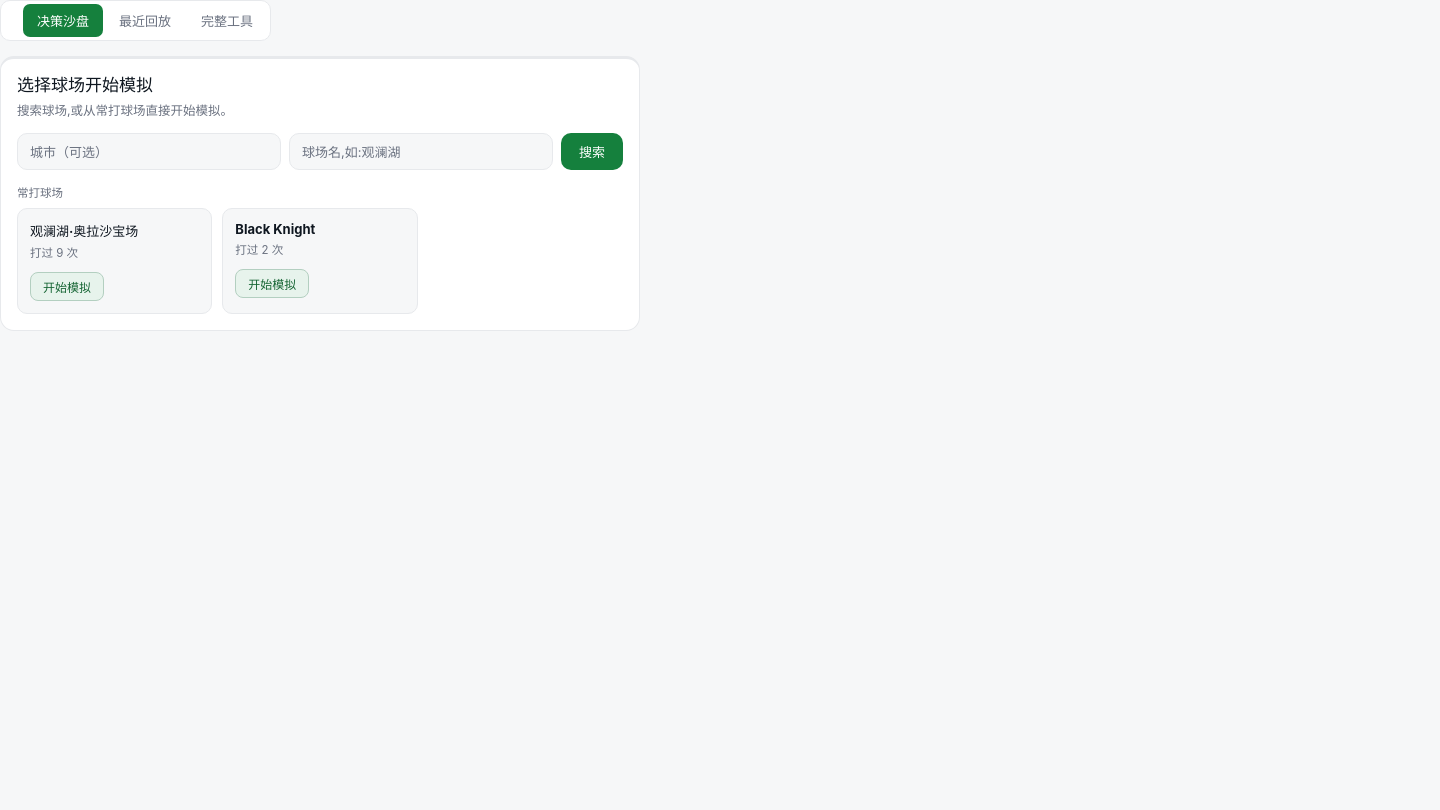
Test: LivePage tabs › 完整工具 renders the verbatim CaddiePage; 决策沙盘 returns to the entry
This screenshot has width=1440, height=810.
Click the button "完整工具" at (227, 20), box x1=187 y1=4 x2=267 y2=37
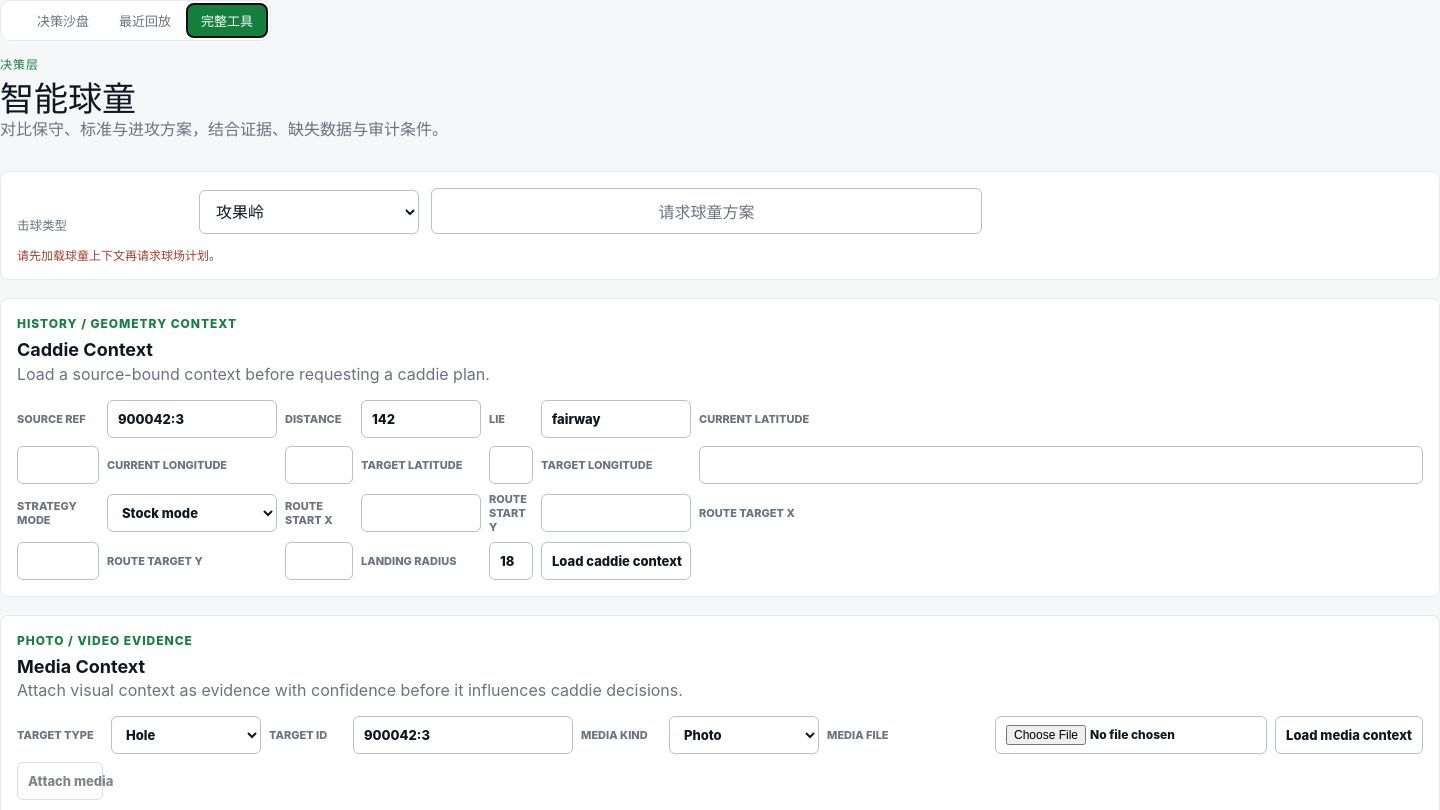
Expected: the heading "智能球童" is shown, x1=0 y1=78 x2=136 y2=119
Expected: the field labelled "Source ref" holds "900042:3", x1=107 y1=400 x2=277 y2=438
Expected: the heading "选择球场开始模拟" is gone
Click the button "决策沙盘" at (63, 20), box x1=23 y1=4 x2=103 y2=37
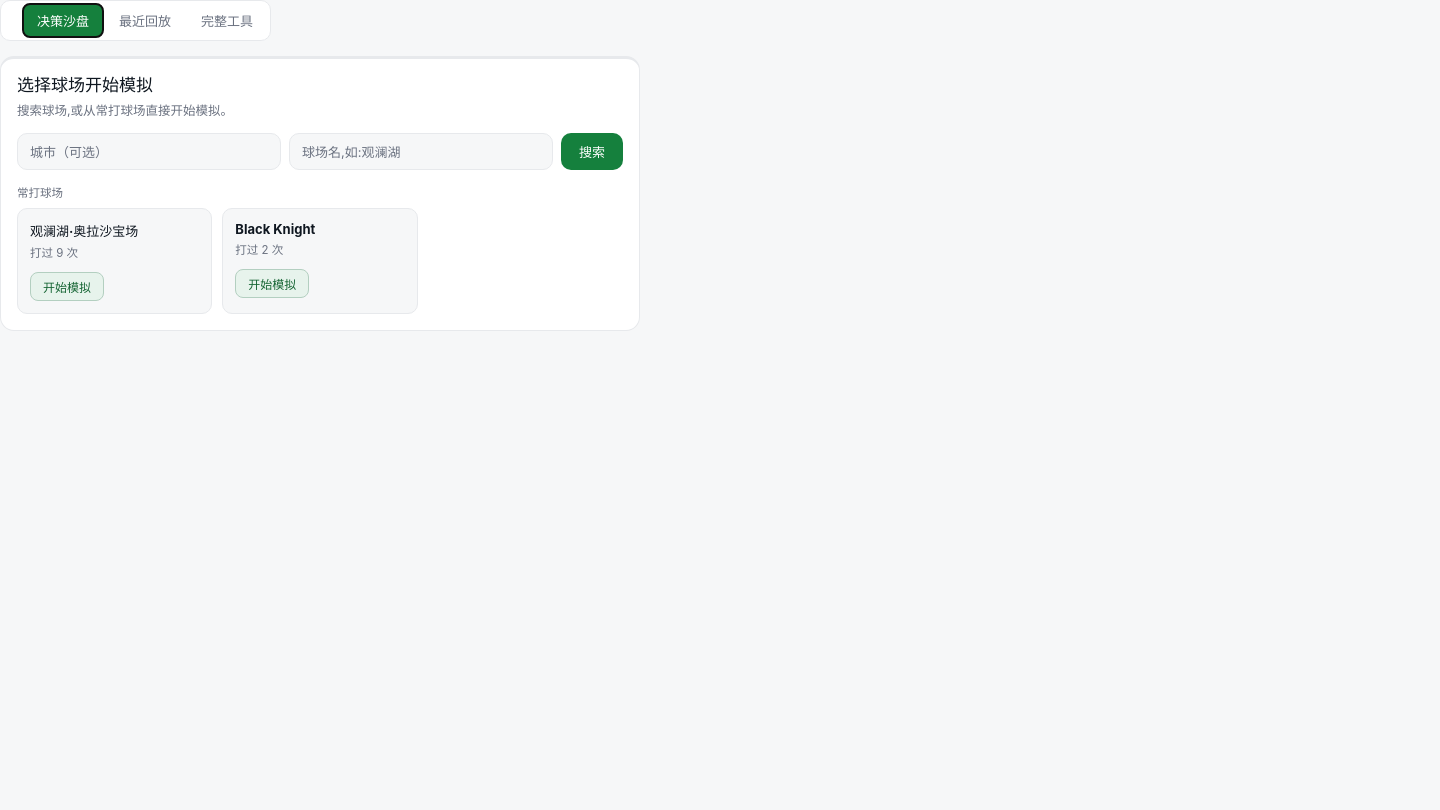
Expected: the heading "选择球场开始模拟" is shown, x1=17 y1=75 x2=153 y2=95
Expected: the heading "智能球童" is gone
